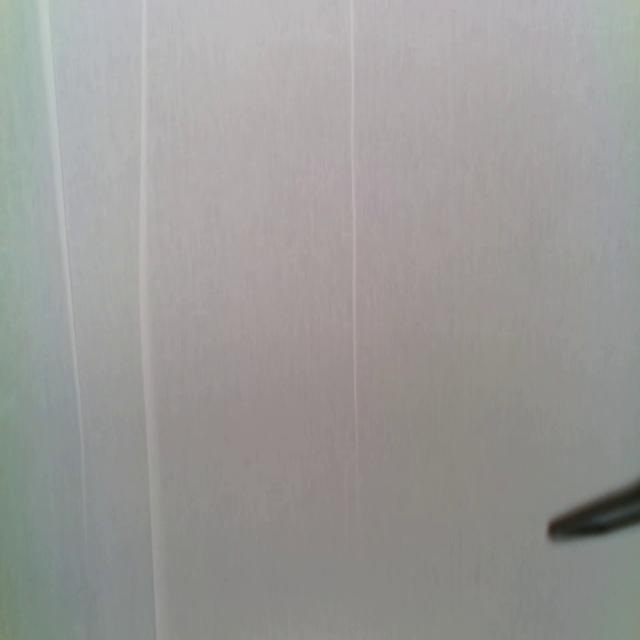crease: (39, 1, 89, 564), (137, 0, 160, 640), (346, 0, 361, 477)
